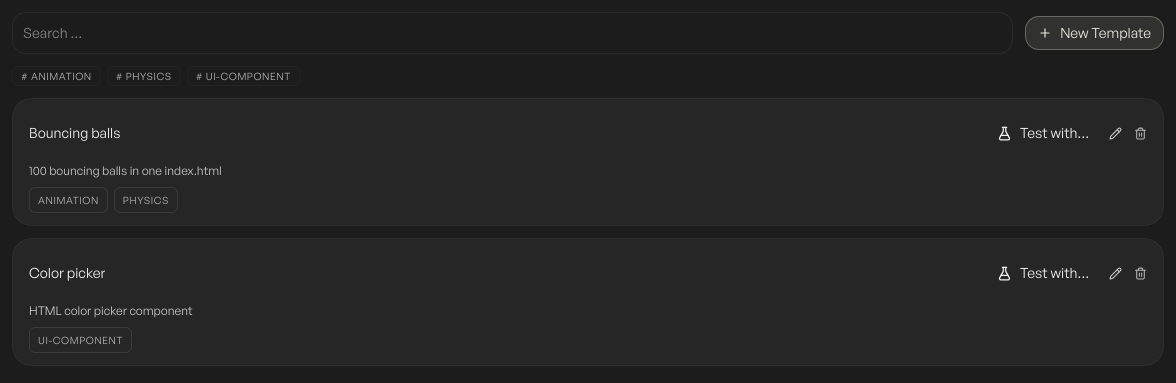
Test case: PromptLibraryTab › filters templates by tag
Check: the text "Bouncing balls" is shown, box [29,123,120,143]
Check: the text "Color picker" is shown, box [29,263,105,283]
Note: Click "animation" tag filter
Step 1. Click the button "# animation" → (56, 76), box [12,66,101,86]
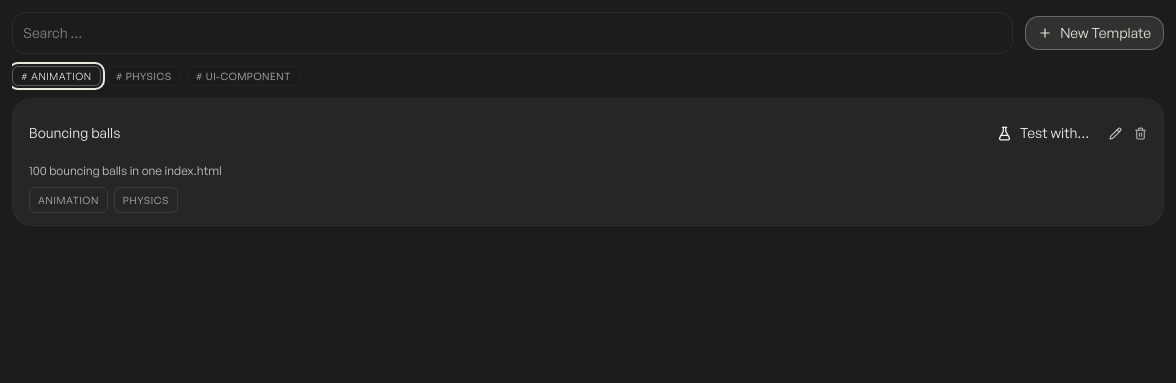
Check: the text "Bouncing balls" is shown, box [29,123,120,143]
Check: the text "Color picker" is gone
Note: Click "animation" again to deactivate filter
Step 2. Click the button "# animation" → (56, 76), box [12,66,101,86]
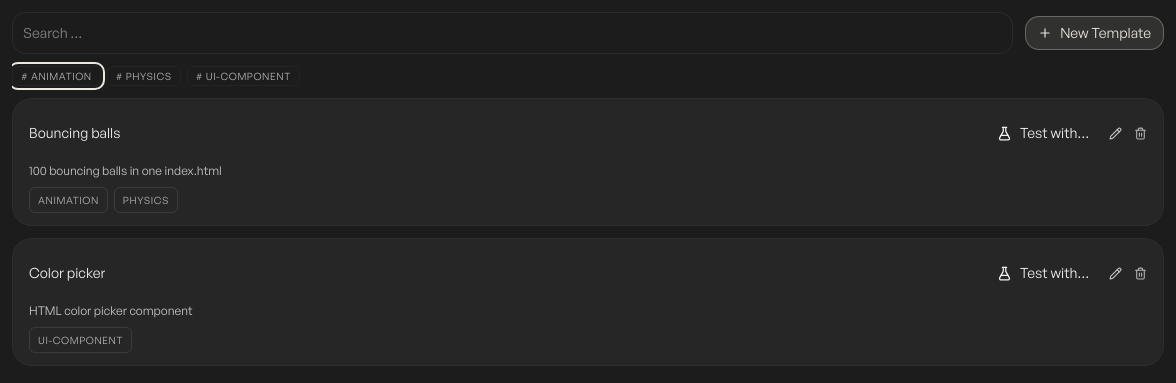
Check: the text "Bouncing balls" is shown, box [29,123,120,143]
Check: the text "Color picker" is shown, box [29,263,105,283]
